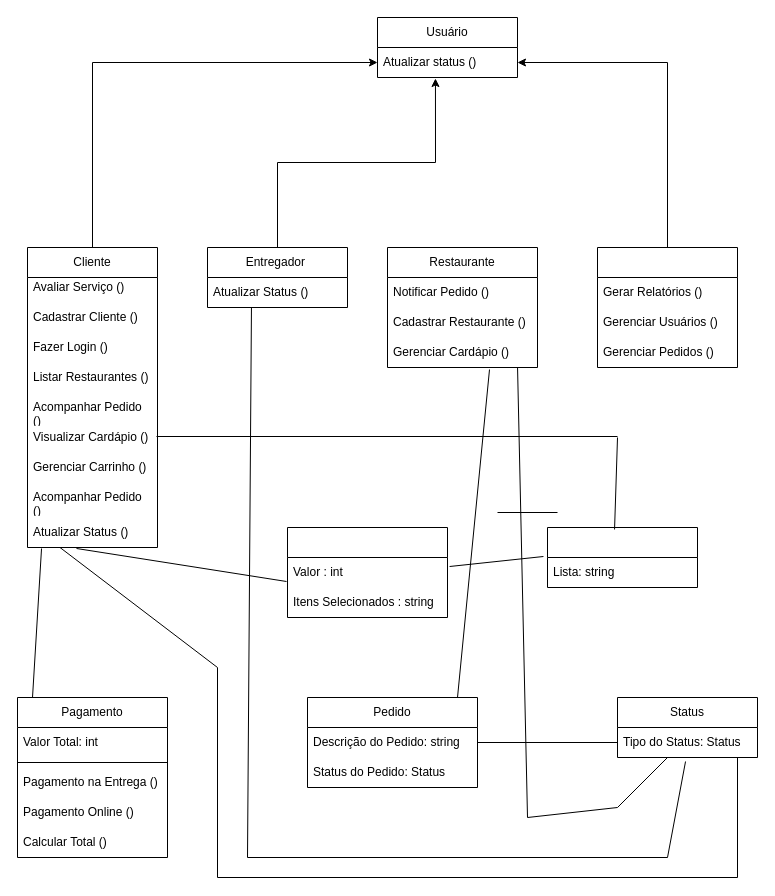
Image size: 775x896. Some labels were removed from this diagram. Here are the shapes that lost their labels. From the top down, the box of each, then its label:
(596, 246, 738, 368): Administrador
(286, 526, 448, 618): Carrinho
(546, 526, 698, 588): Cardápio
